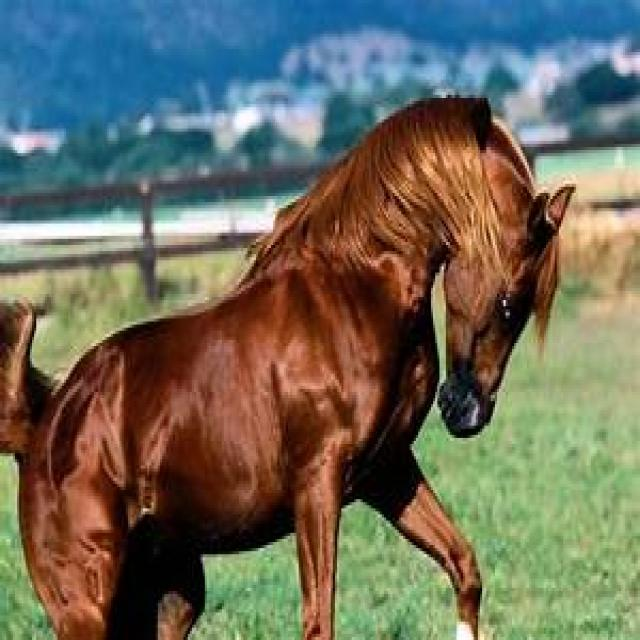horse: (0, 95, 576, 640)
